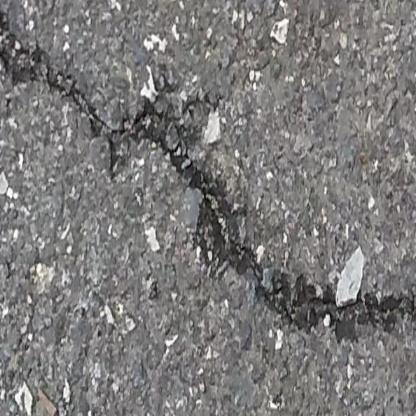Cracks: (0, 20, 416, 348)
